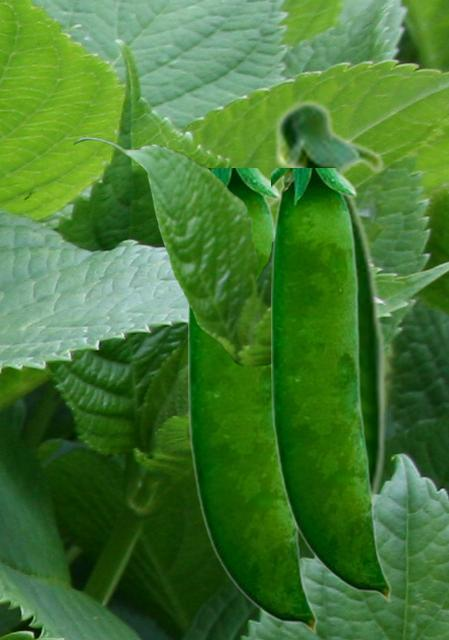pea: (188, 168, 316, 633), (271, 168, 390, 601), (272, 97, 386, 513)
